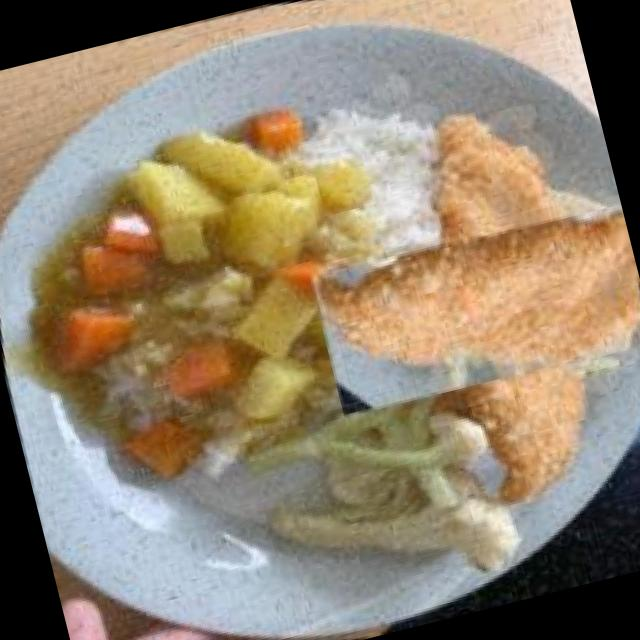curry: (0, 42, 469, 540)
fried_chicken: (317, 108, 640, 496)
rice: (279, 71, 504, 337)
